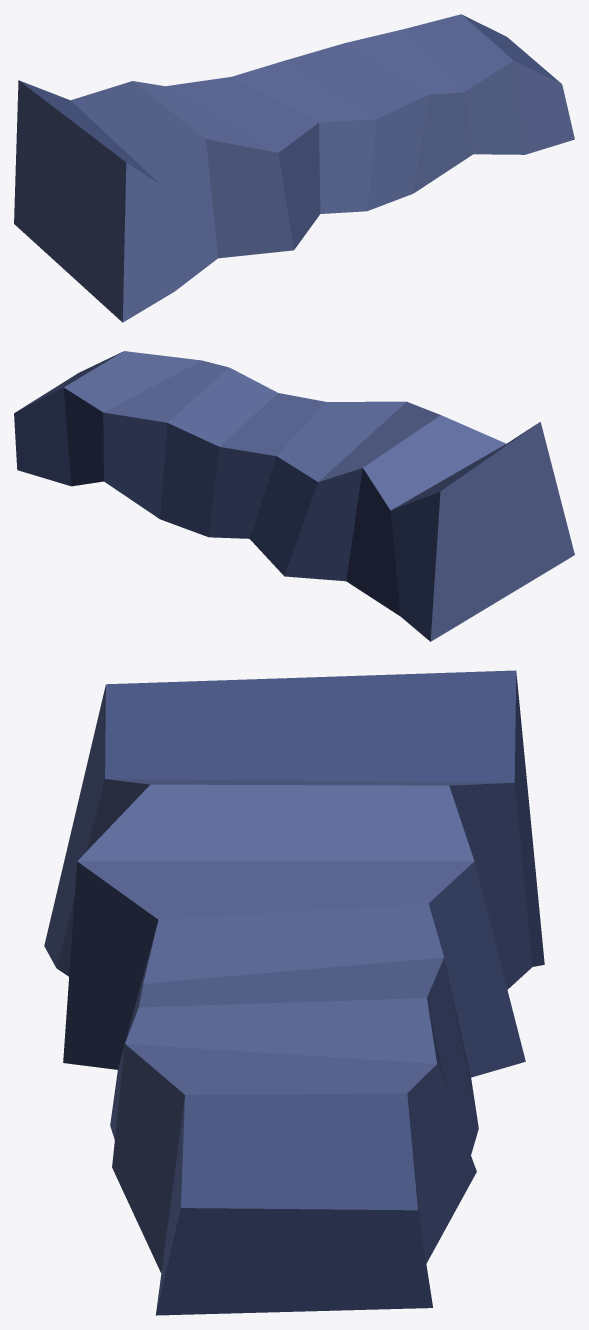
File: ledge-3.glb
3 renders of one model, top to bottom at view 1: azimuth 30°, elevation 25°; view 2: azimuth 150°, elevation 25°; view 3: azimuth 270°, elevation 25°, orthographic. The views are drawn at different scales.
Visible parts, largest first — view 1: ledge-3; view 2: ledge-3; view 3: ledge-3.
Boxes of the visible parts, <box> form: ledge-3: <box>14,14,574,322</box>; ledge-3: <box>14,351,574,641</box>; ledge-3: <box>44,670,544,1315</box>.
Bounding box in the file's own units: 6.15 × 1.83 × 2.85.
